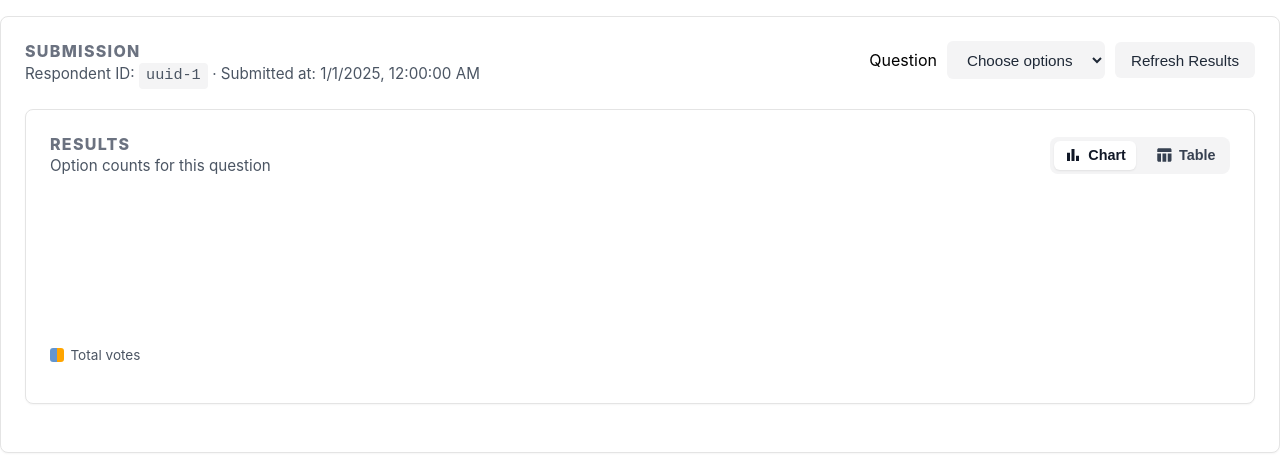
SubmittedResultsSection › infers selection type from selectedOptionIds and shows percentages
This screenshot has width=1280, height=470.
Expected: the text "Option counts for this question" is shown, [50,155,271,177]
Click the button with aria-label "table view".
click(1185, 155)  # box [1144,140,1226,170]
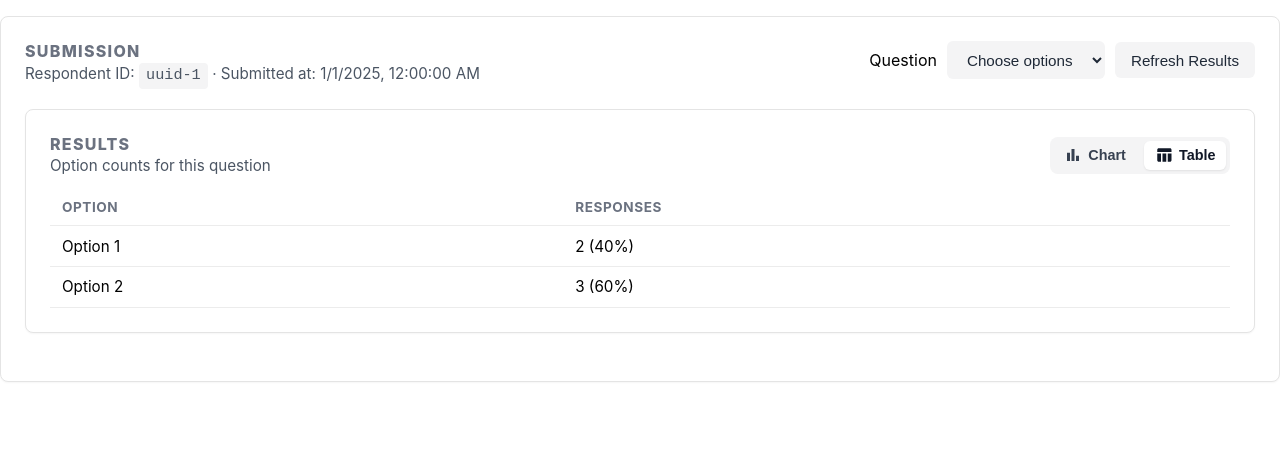
Now the text "2 (40%)" is shown, box [563,226,1230,267]
Now the text "3 (60%)" is shown, box [563,267,1230,307]
